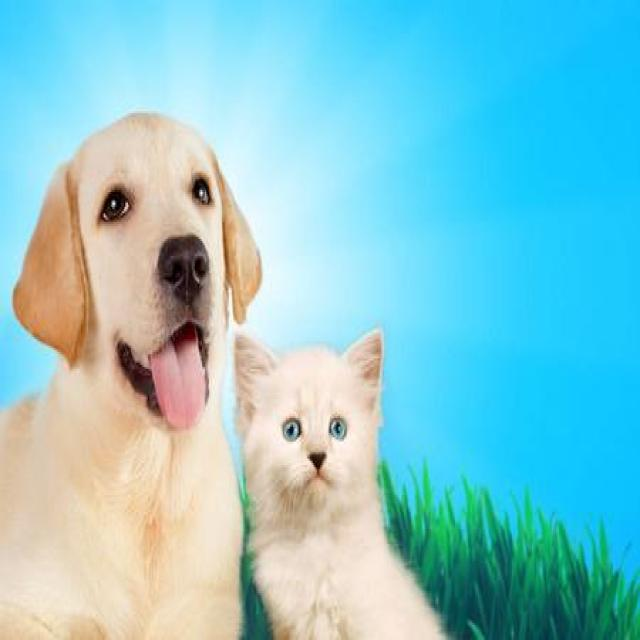cat: (226, 319, 391, 550)
dog: (26, 99, 257, 450)
